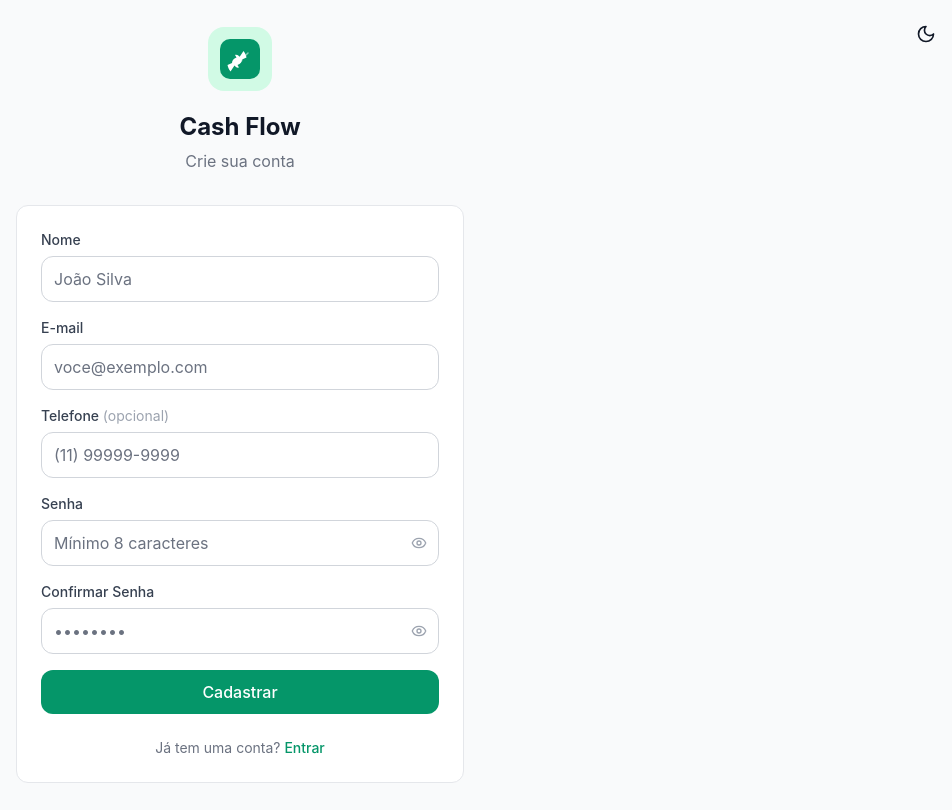
it: Página de Cadastro › mostra erro quando senhas não coincidem
Type "Test User" into the field labelled "Nome" at (240, 279), box [41,256,439,302]
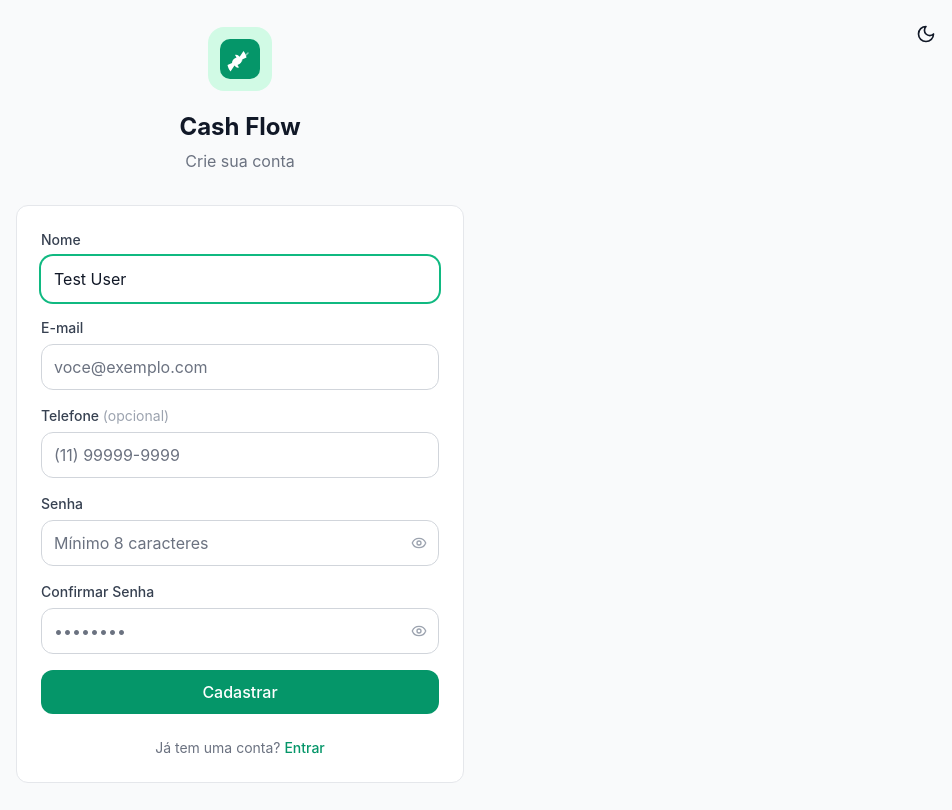
Type "test@example.com" into the field labelled "E-mail" at (240, 367), box [41,344,439,390]
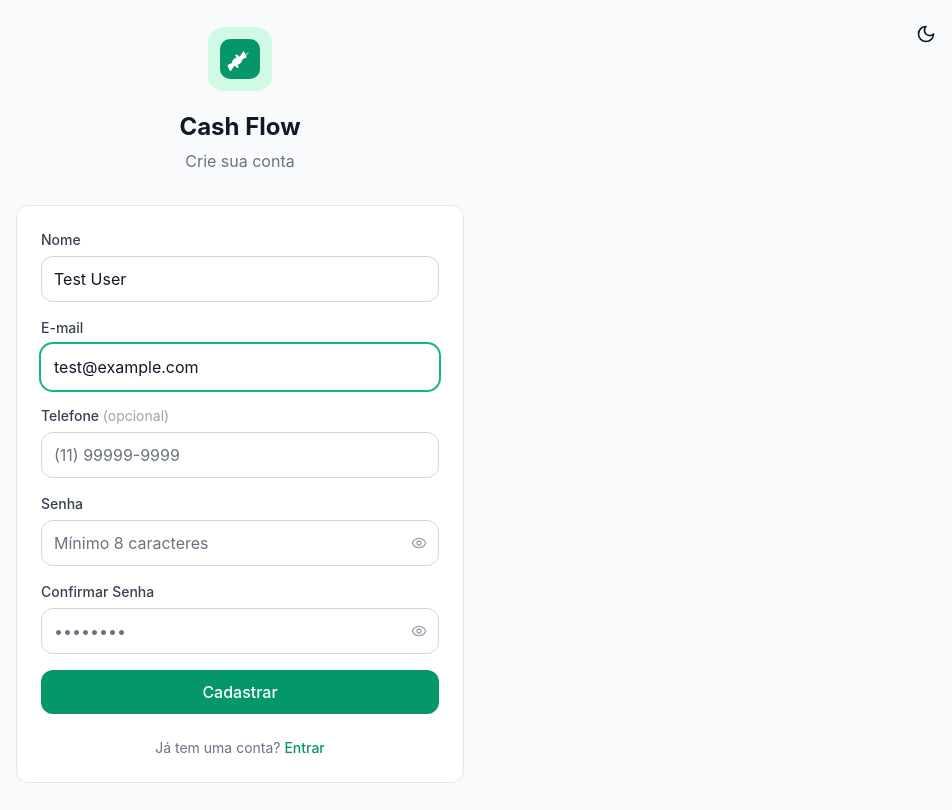
Type "password123" into the password field labelled "Senha" at (240, 543), box [41,520,439,566]
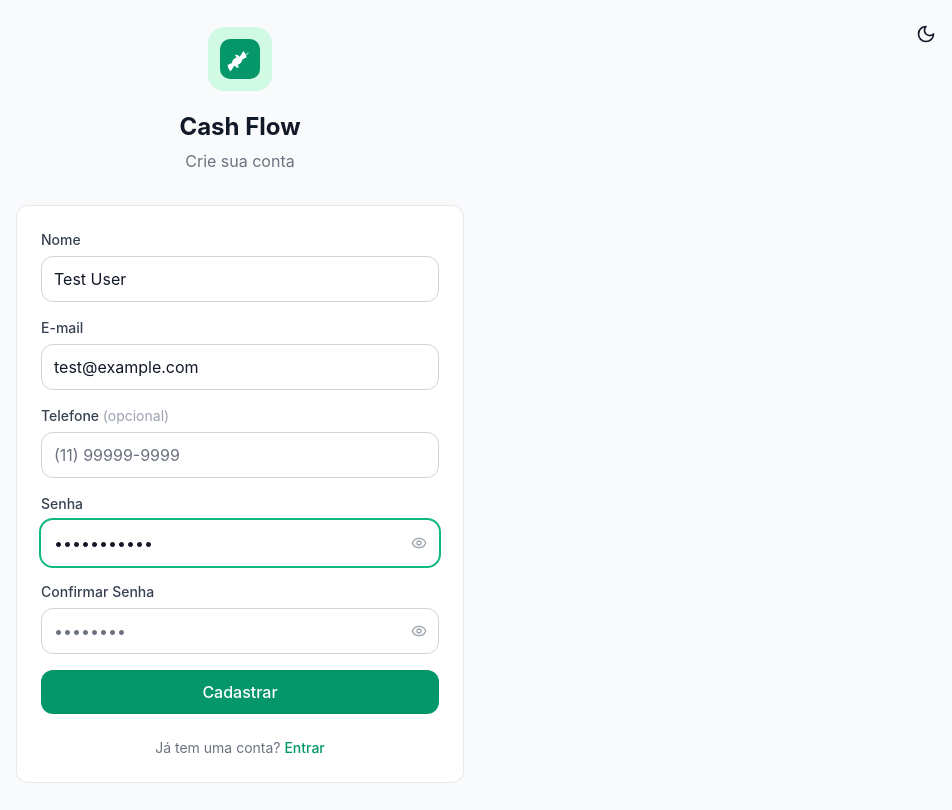
Type "different" into the password field labelled "Confirmar Senha" at (240, 631), box [41,608,439,654]
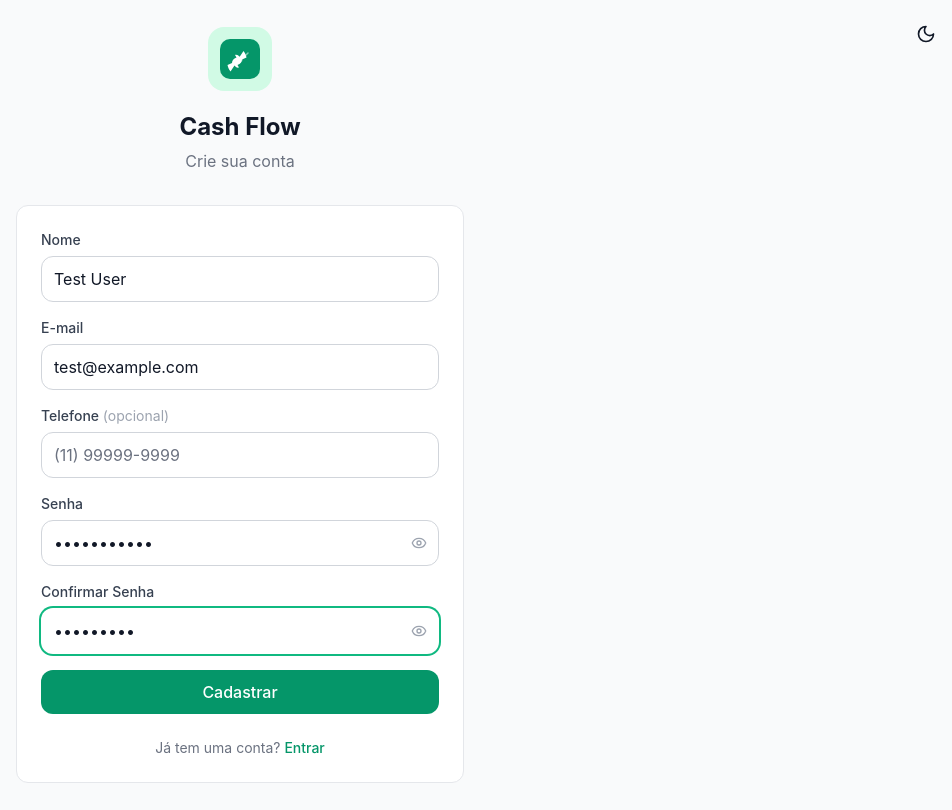
Click the button "Cadastrar" at (240, 692), box [41,670,439,714]
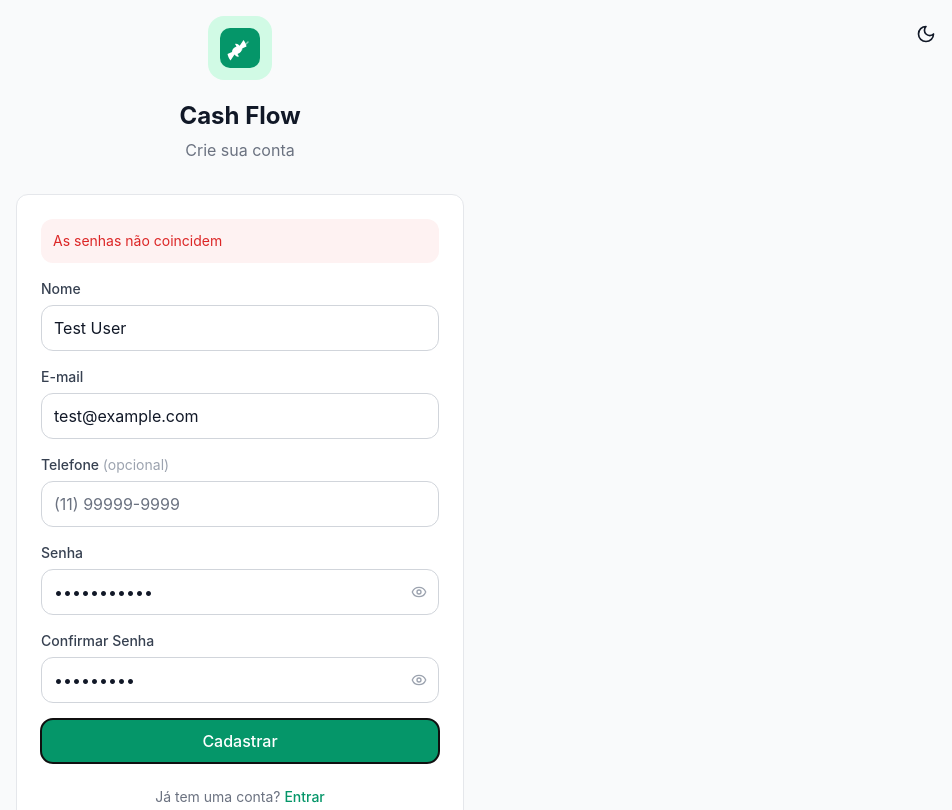
Expected: the text "As senhas não coincidem" is shown, [41,219,439,263]
